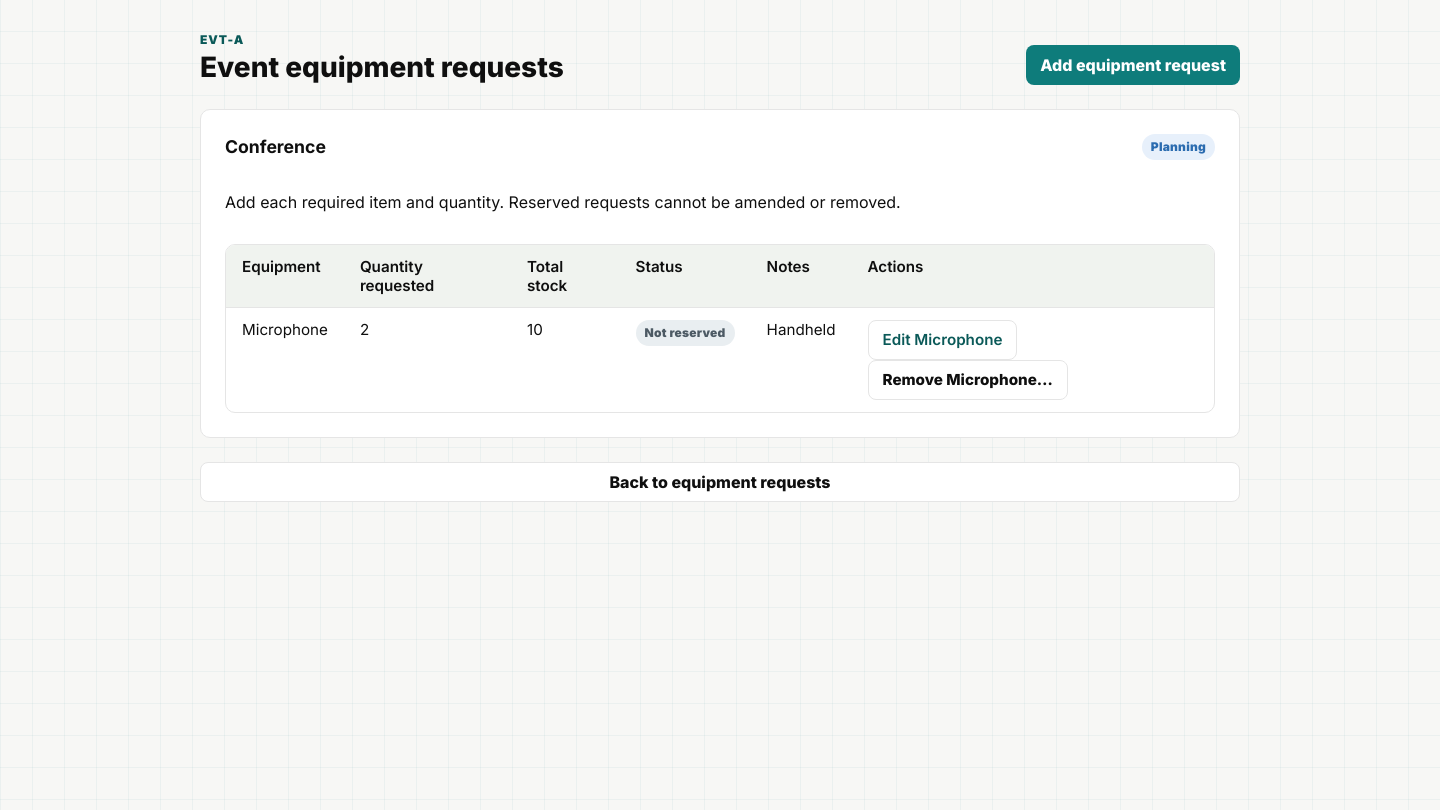
unexpected removal error releases the confirm button and allows retry
Click the button "Remove Microphone…": click(968, 380) [868,360,1068,400]
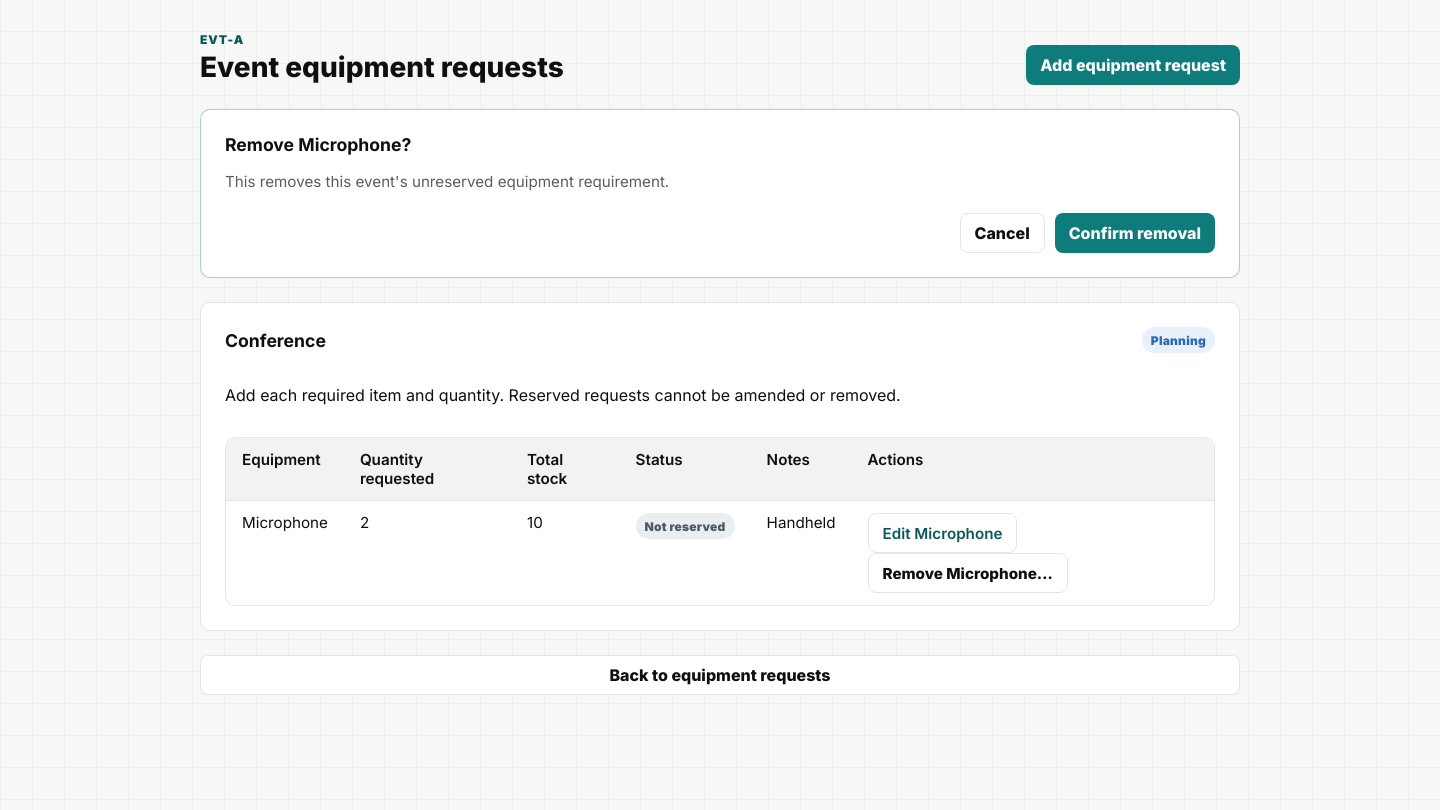
Click the button "Confirm removal": click(1135, 233) [1055,213,1215,253]
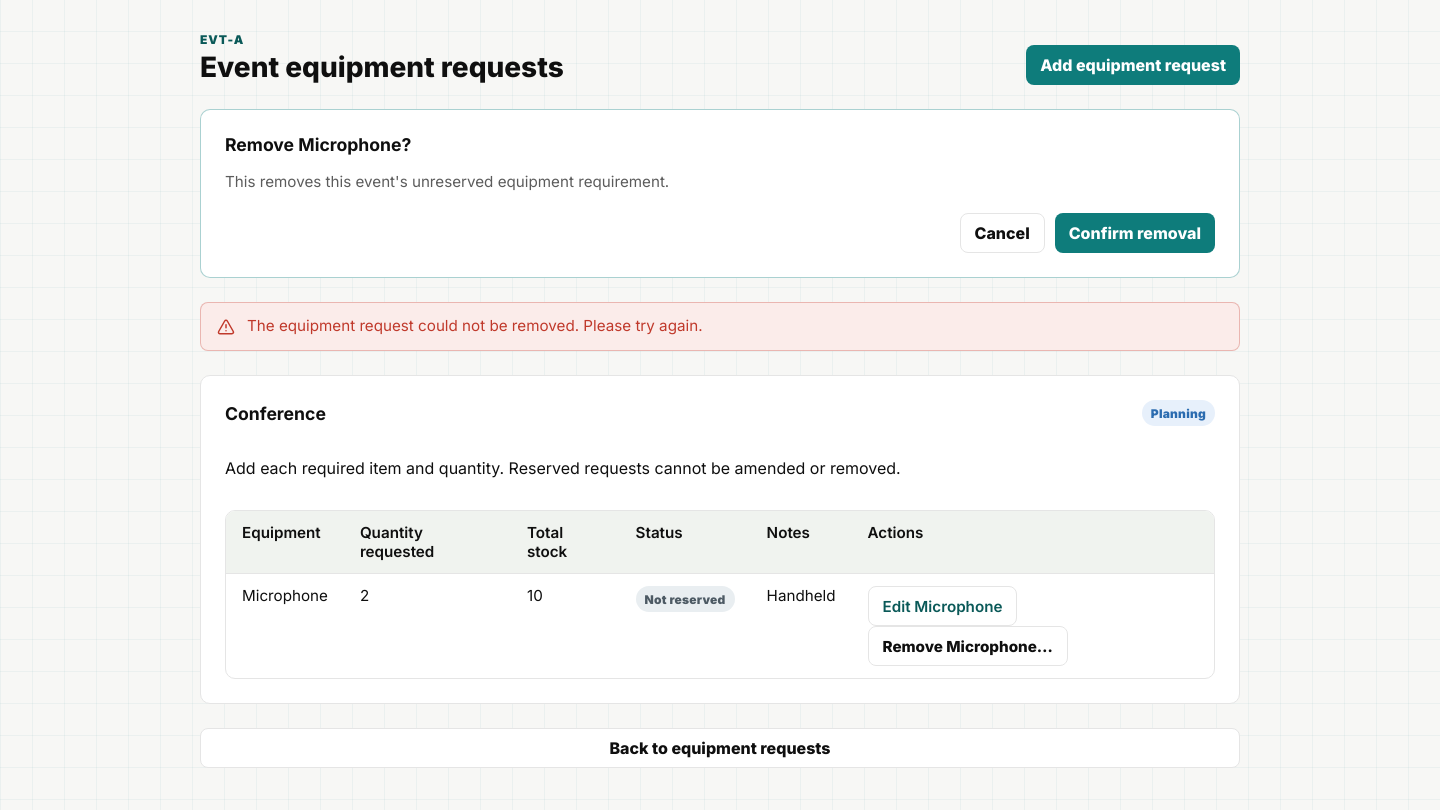
Expected: the link "Edit Microphone" is shown, [868,586,1017,626]
Expected: the button "Confirm removal" is enabled
Expected: the text "The equipment request could not be removed. Please try again." is shown, [247,316,702,335]
Click the button "Confirm removal": click(1135, 233) [1055,213,1215,253]
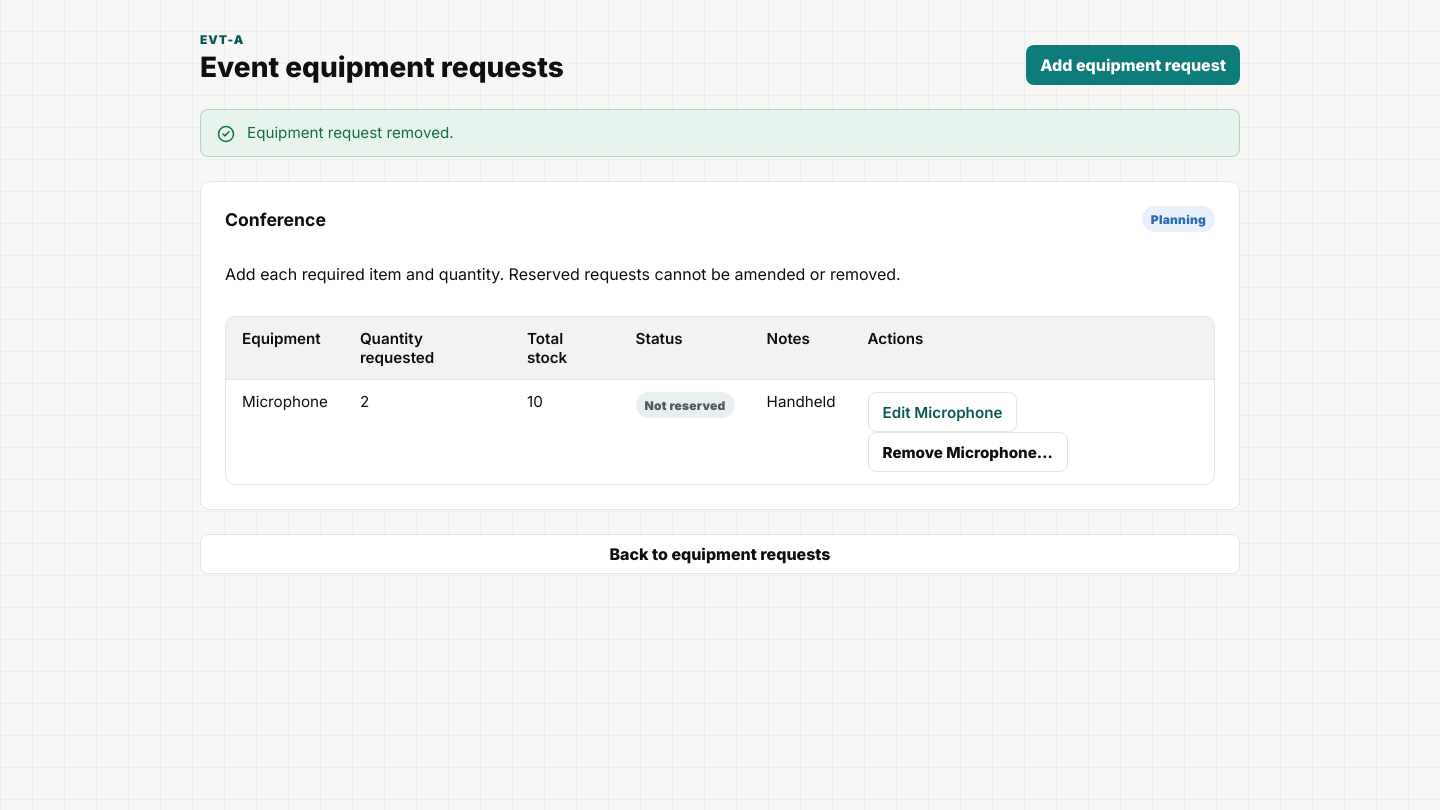
Expected: the text "Equipment request removed." is shown, [247,123,454,142]
